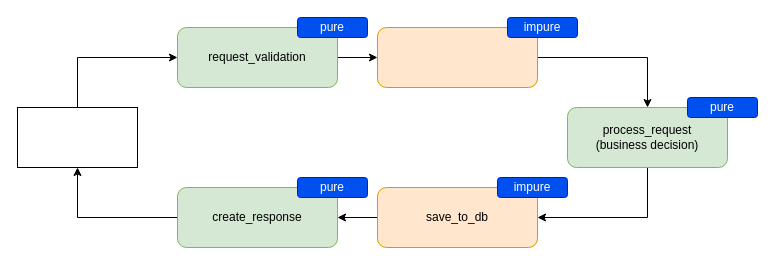
Some shapes in this 775 by 265 pixel diagram are drawn without their labels. Each missing label, with the centre of its shape:
get_information_from_db: the point at 457,57
HTTP endpoint: the point at 77,137
